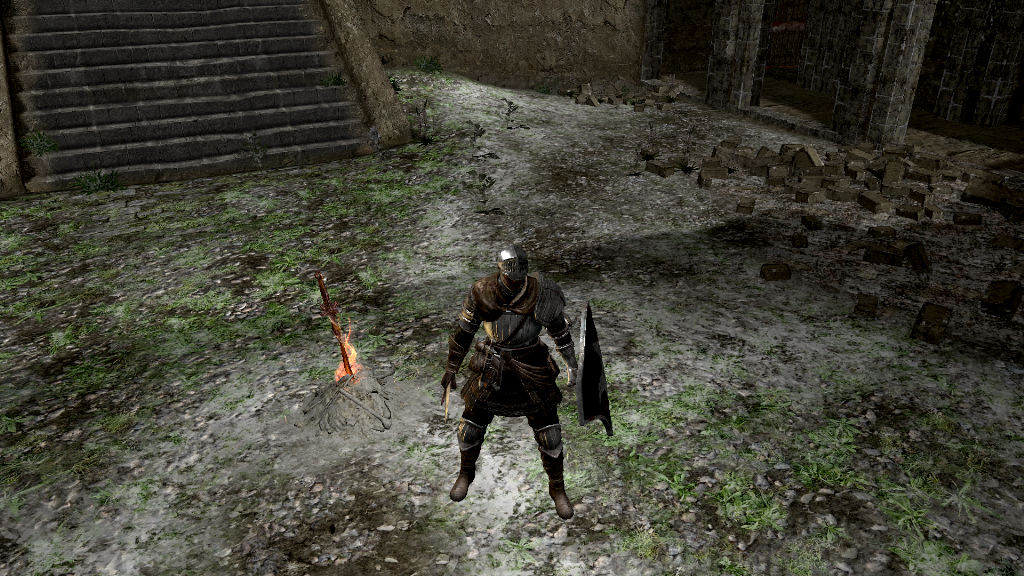bonfire: (310, 270, 387, 404)
player: (442, 242, 617, 521)
